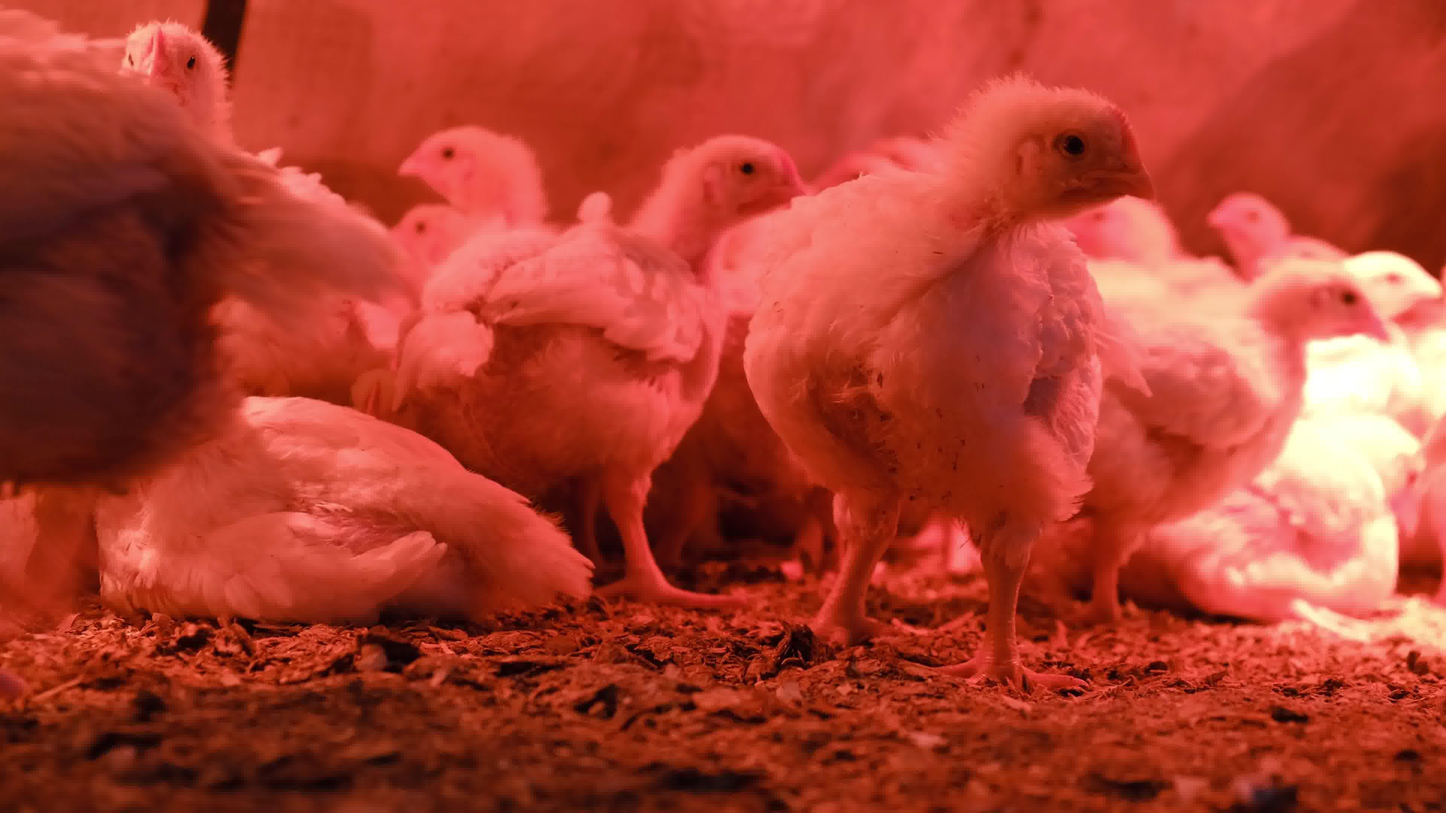AbNormal: (88, 375, 599, 640), (1211, 416, 1446, 625)
Normal: (710, 64, 1231, 708), (0, 0, 371, 708), (426, 107, 836, 614), (1120, 250, 1425, 602), (354, 70, 576, 265), (1197, 156, 1399, 286)
